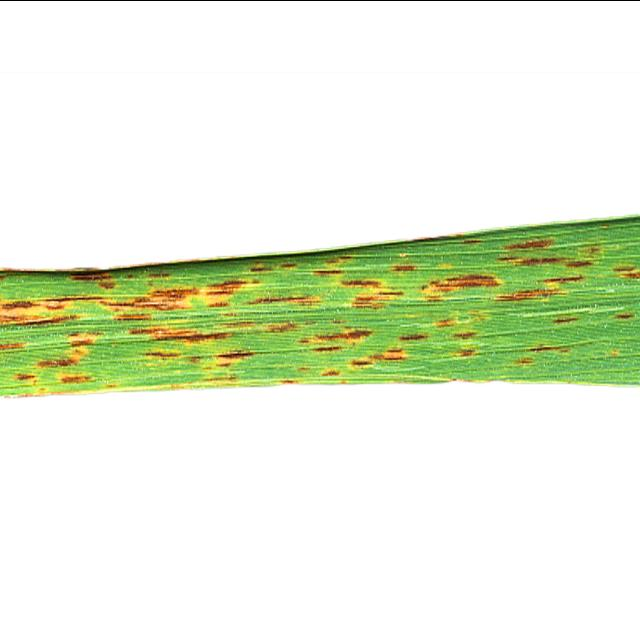Narrow brown: (0, 214, 640, 420)
